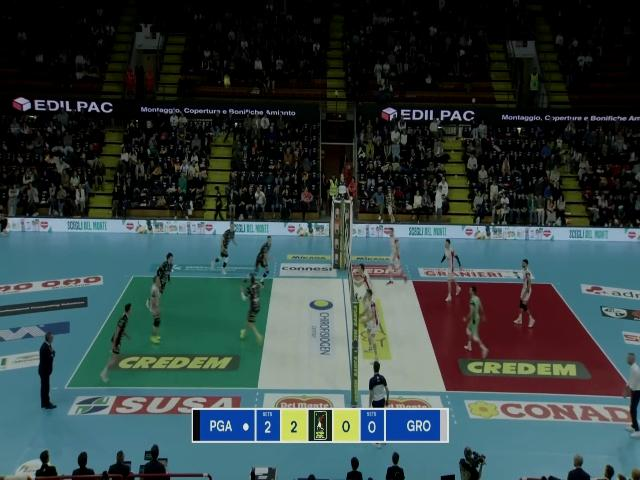volleyball court: (53, 275, 633, 392)
